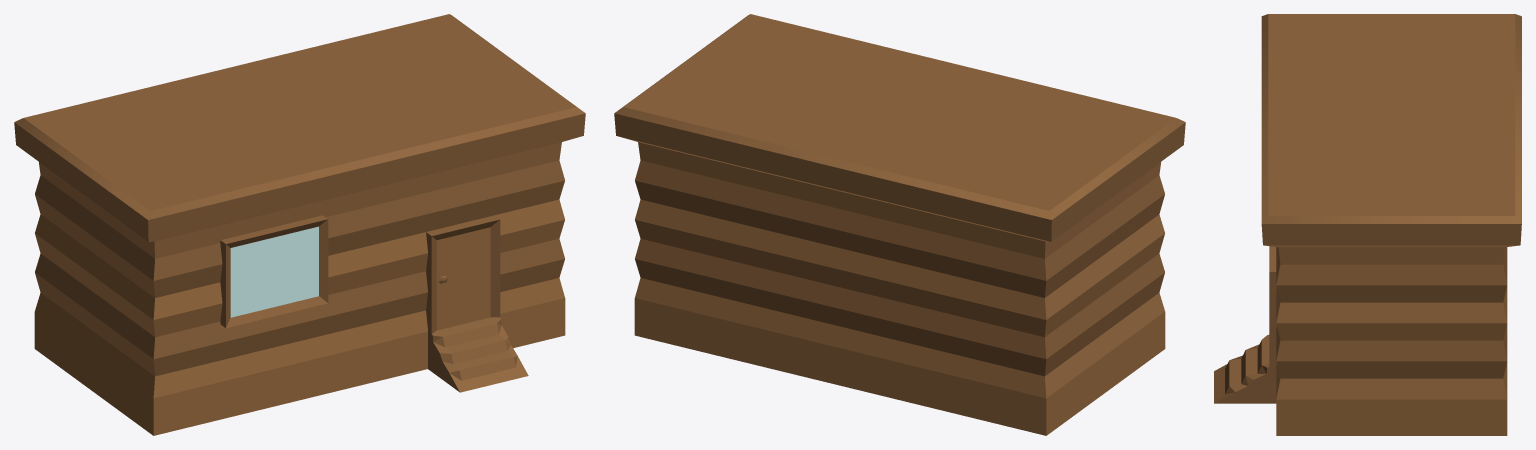
File: House.fbx
The picture shows the model from 3 angles, left to right: view 1: azimuth 30°, elevation 25°; view 2: azimuth 150°, elevation 25°; view 3: azimuth 270°, elevation 25°; orthographic projection. The views are drawn at different scales.
Parts seen in each view (by area): view 1: House; view 2: House; view 3: House.
Part boxes in pixels (bbox=[...]): House: bbox=[14, 14, 585, 435]; House: bbox=[614, 14, 1185, 435]; House: bbox=[1214, 14, 1521, 435].
Bounding box in the file's own units: 1276 × 641 × 800.
